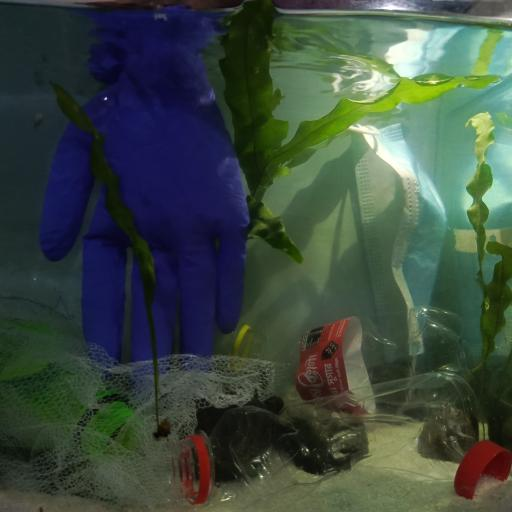bottle_cap: (452, 434, 511, 497)
glove: (35, 50, 250, 368)
mask: (350, 120, 448, 354)
net: (0, 331, 278, 503)
plastic_bottle: (167, 369, 486, 501), (0, 315, 141, 453), (262, 312, 464, 403)
